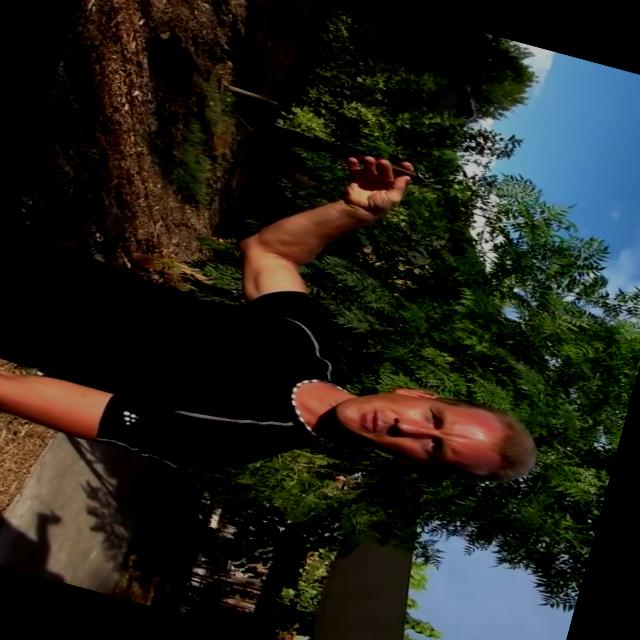knife: (242, 105, 444, 198)
